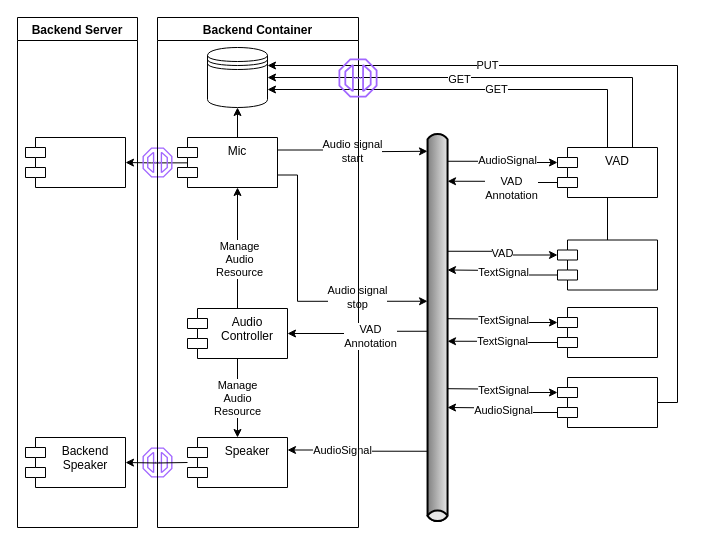
Image size: 703x545. Some labels were removed from this diagram. The centre of each missing label's shape, as x and y in pixels:
"Backend Mic" goes at point (75, 162).
"LLM" goes at point (607, 332).
"STT" goes at point (607, 264).
"TTS" goes at point (607, 402).
